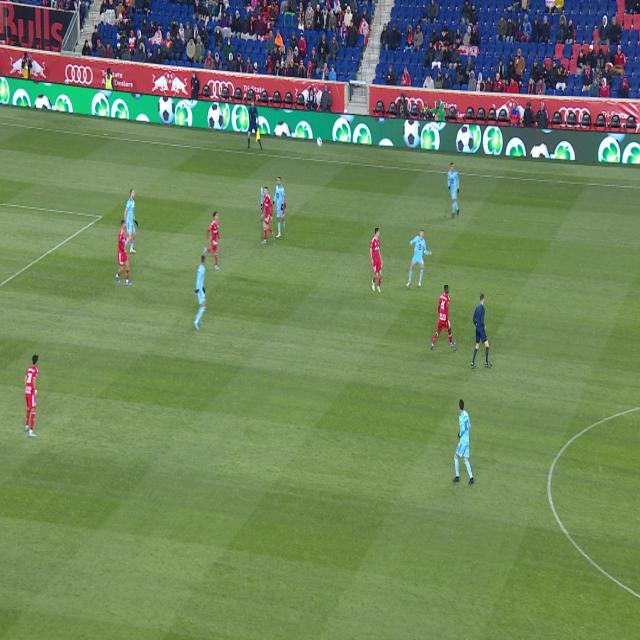football: (316, 136, 322, 147)
player: (453, 400, 474, 484), (431, 285, 456, 350), (406, 230, 431, 286), (25, 355, 38, 437), (116, 220, 131, 285), (204, 212, 221, 269), (124, 189, 138, 253), (194, 256, 206, 330), (370, 229, 383, 293), (262, 187, 275, 244), (273, 178, 285, 238), (447, 162, 459, 218)
referee: (472, 294, 491, 368)
